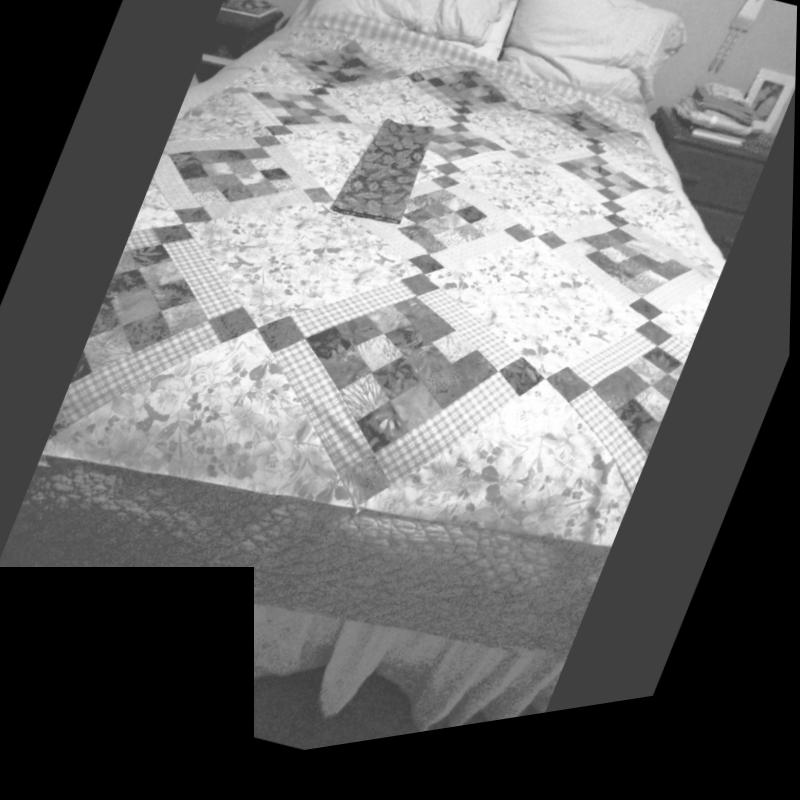pillow: (485, 0, 714, 149)
